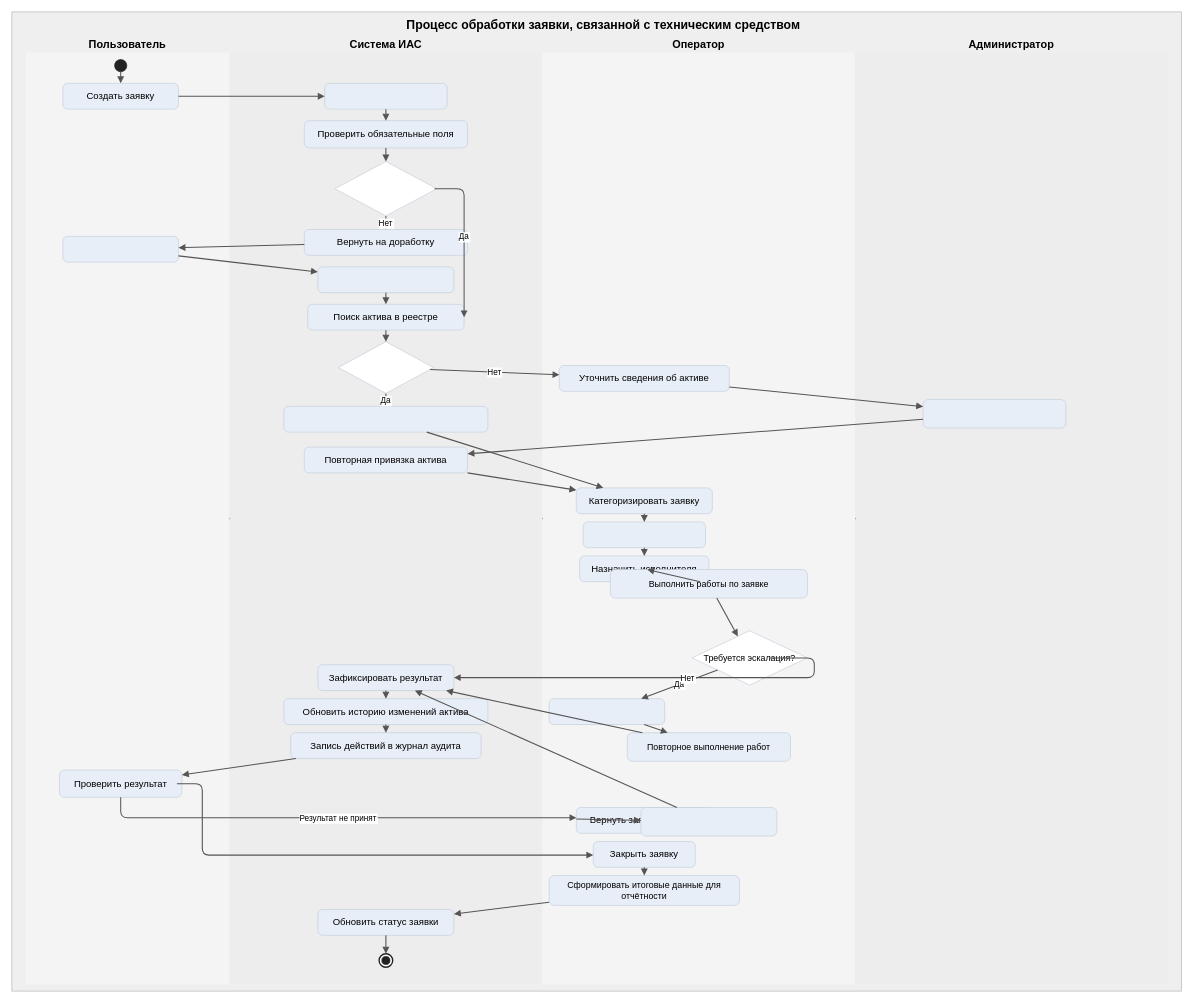
Image size: 1193x1003. Some labels were removed from this diagram. Each missing label, with the centre of its shape:
Актив найден?: the point at 386,367
Данные корректны?: the point at 385,188
Доработать решение: the point at 708,821
Зарегистрировать/актуализировать актив: the point at 994,413
Назначить приоритет: the point at 644,534
Повторная проверка: the point at 385,279
Привязать заявку к карточке актива: the point at 385,419
Принять заявку: the point at 385,96
Уточнить данные: the point at 120,249
Эскалировать заявку: the point at 606,711
